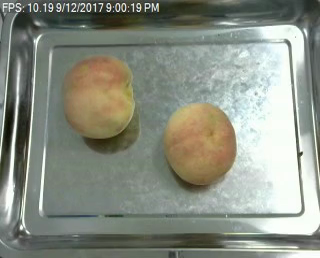Peach: (61, 53, 137, 139), (164, 102, 237, 185)
